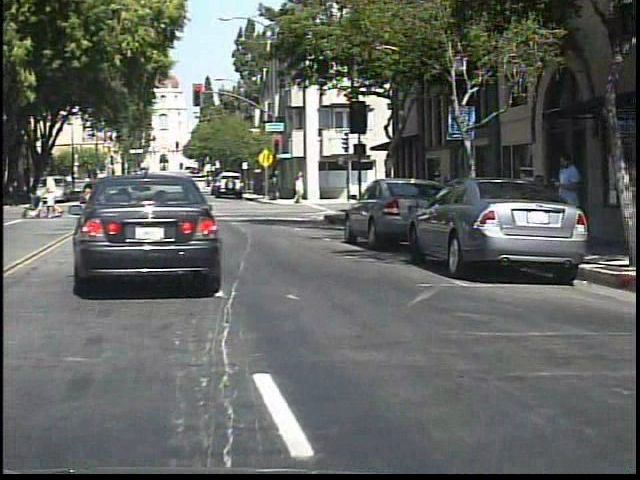person: (550, 146, 583, 264), (50, 172, 71, 220), (2, 175, 18, 210), (45, 174, 46, 207)
